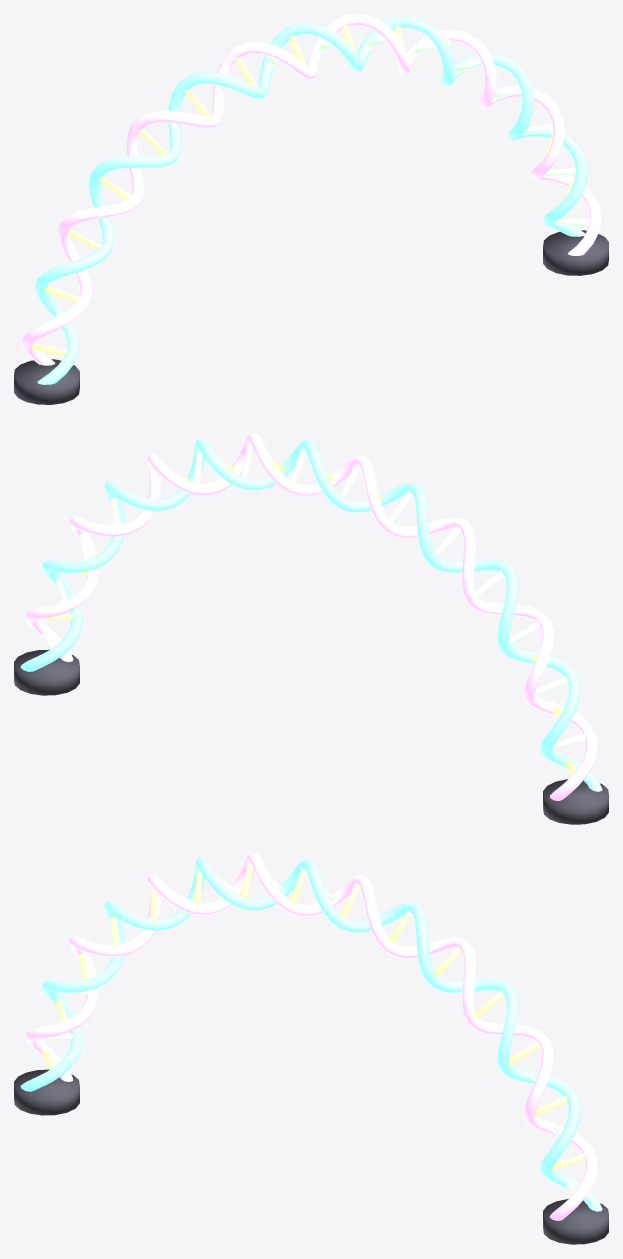
File: T06_Checkpoint_Ring.glb
3 views of the same model, one above another, from view 1: azimuth 30°, elevation 25°; view 2: azimuth 150°, elevation 25°; view 3: azimuth 330°, elevation 25° (orthographic).
Parts seen in each view (by area): view 1: T06_Checkpoint_Ring_Mesh; view 2: T06_Checkpoint_Ring_Mesh; view 3: T06_Checkpoint_Ring_Mesh.
Part boxes in pixels (x1,y1,x2,y2): T06_Checkpoint_Ring_Mesh: (14,14,608,404); T06_Checkpoint_Ring_Mesh: (14,433,608,824); T06_Checkpoint_Ring_Mesh: (14,853,608,1244).
Size of the model in its own units: 10.2 by 5.11 by 1.
